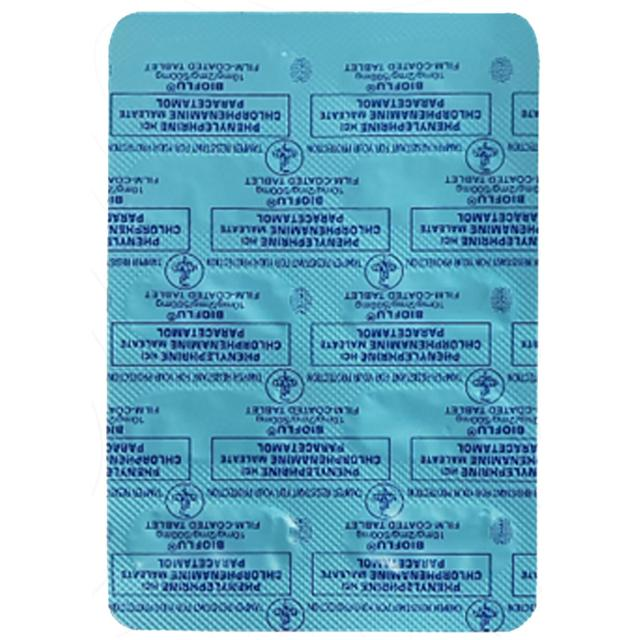blister: (100, 6, 541, 635)
